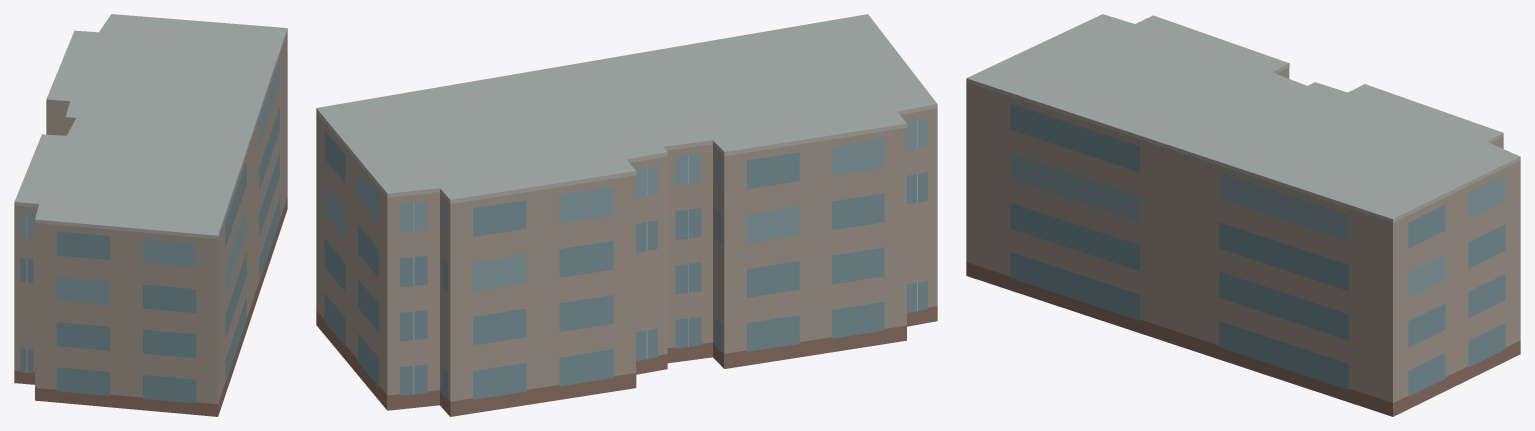
File: survey-upis-32662659.glb
3 views of the same model, side by side, from view 1: azimuth 30°, elevation 25°; view 2: azimuth 150°, elevation 25°; view 3: azimuth 270°, elevation 25° (orthographic). The views are drawn at different scales.
Parts seen in each view (by area): view 1: survey-upis-32662659.tmp; view 2: survey-upis-32662659.tmp; view 3: survey-upis-32662659.tmp.
Part boxes in pixels (bbox=[...]): survey-upis-32662659.tmp: bbox=[14, 14, 287, 416]; survey-upis-32662659.tmp: bbox=[316, 14, 937, 416]; survey-upis-32662659.tmp: bbox=[966, 14, 1520, 416].
Bounding box in the file's own units: 28.52 × 12.8 × 32.53.
